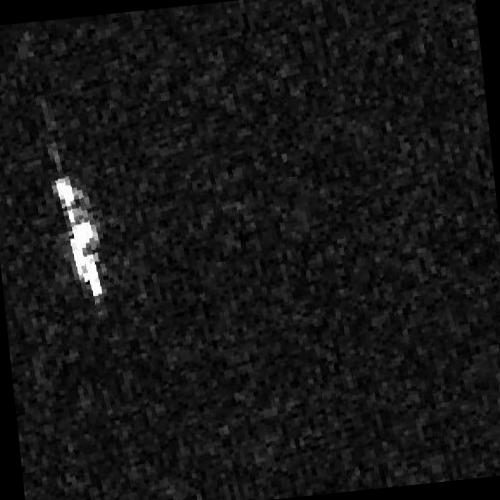ship: (53, 173, 104, 298)
